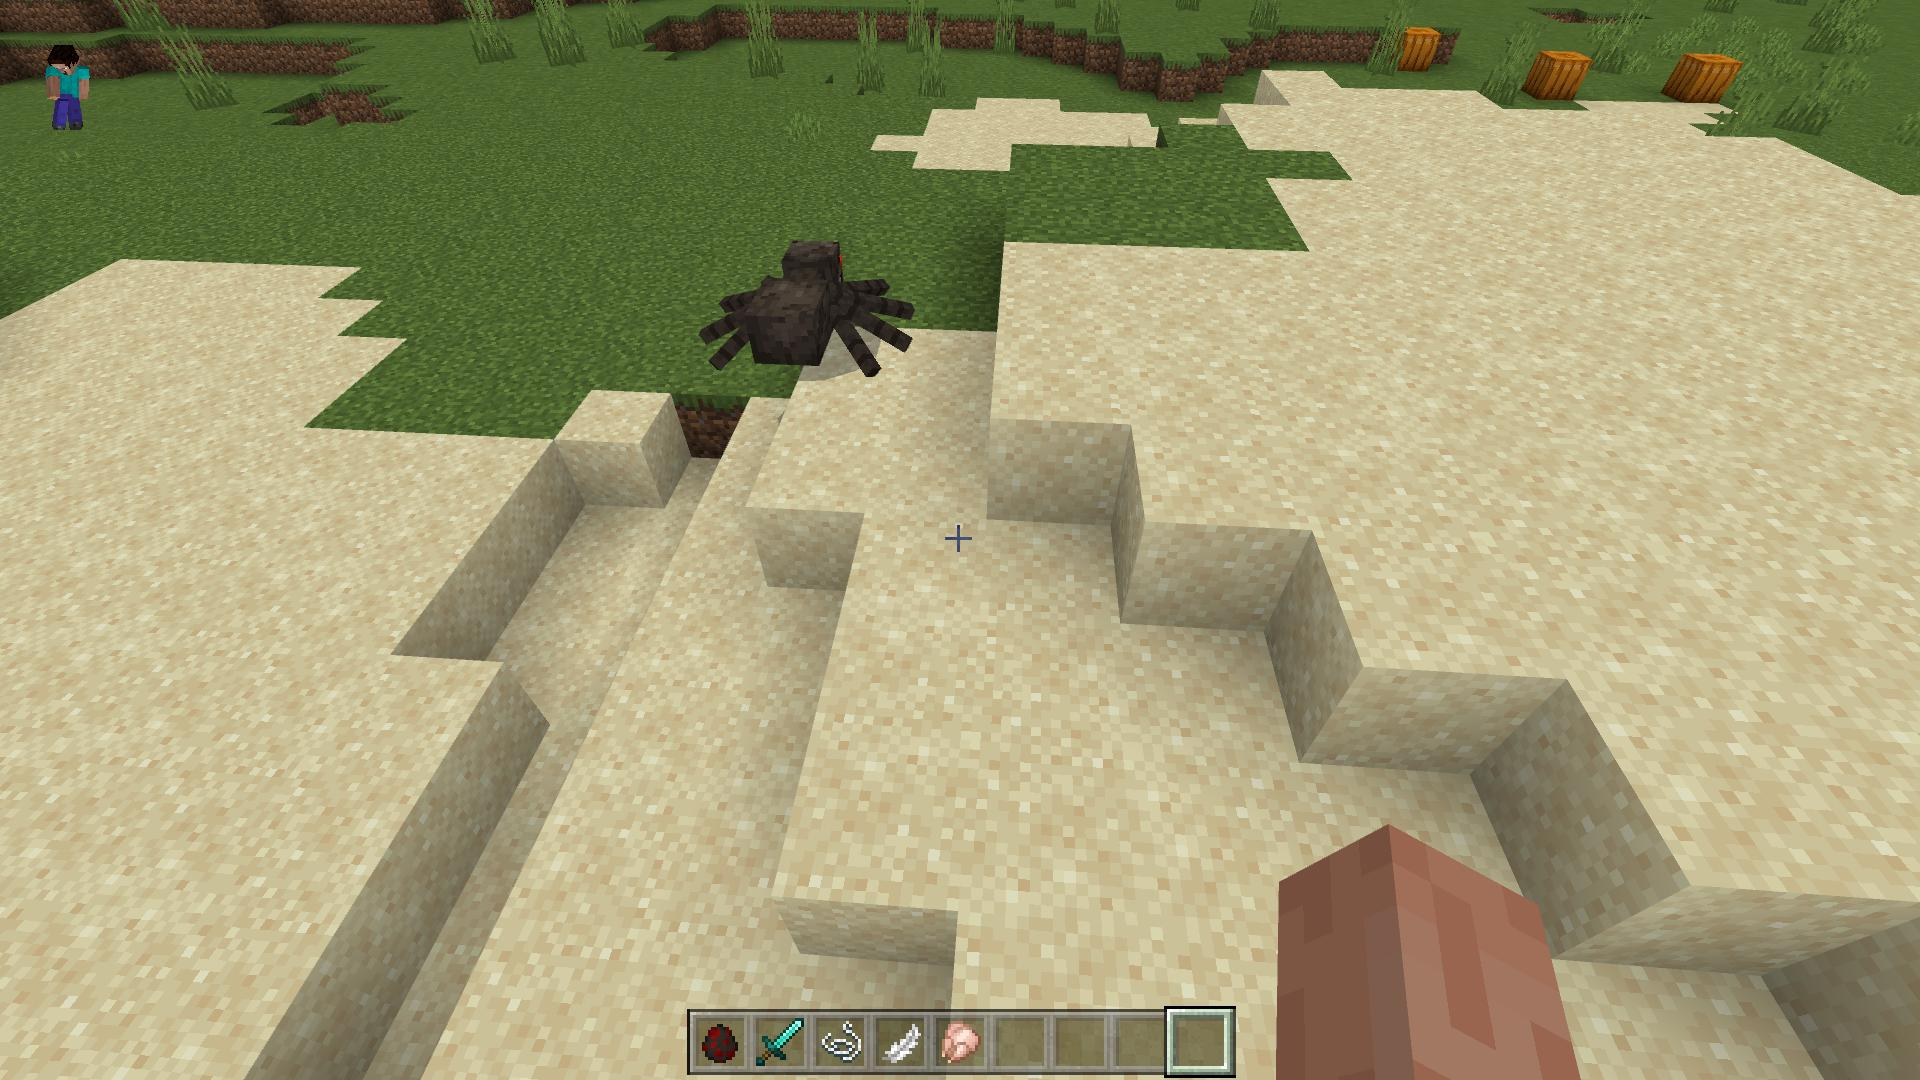spider: (705, 236, 920, 385)
